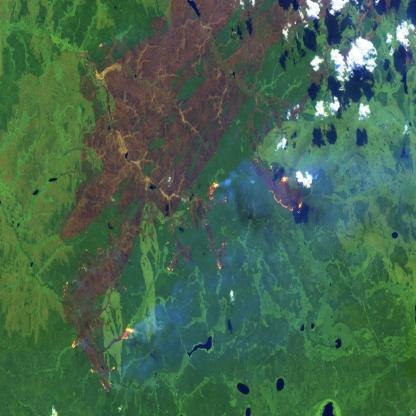fire: (268, 163, 308, 217), (88, 358, 118, 396), (213, 232, 230, 277), (204, 175, 224, 206), (117, 318, 138, 344), (164, 250, 178, 279), (67, 336, 82, 354)
